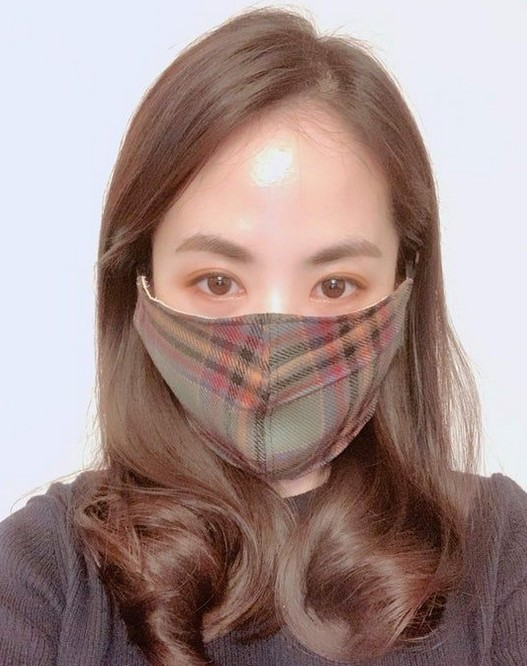face_with_mask: (115, 21, 418, 489)
